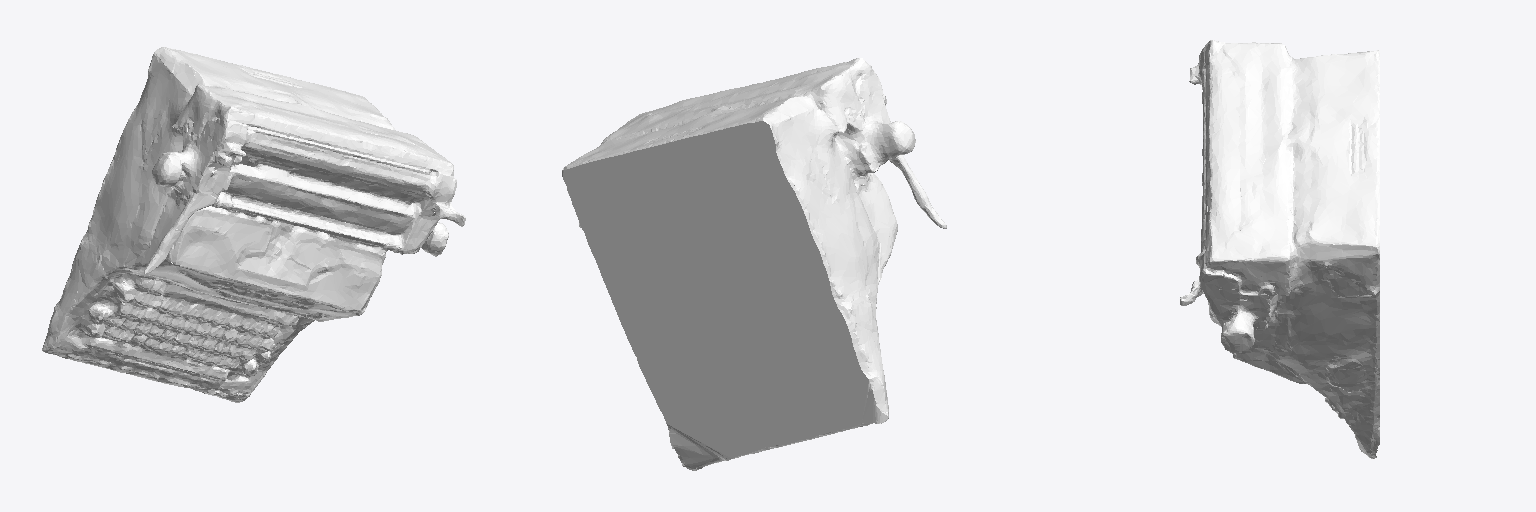
Rendered from OlivettiNuovo.obj.
3 renders of one model, left to right at view 1: azimuth 30°, elevation 25°; view 2: azimuth 150°, elevation 25°; view 3: azimuth 270°, elevation 25°, orthographic.
Bounding box in the file's own units: 20.54 × 22.04 × 10.66.